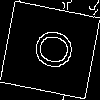O: (25, 25, 74, 73)
